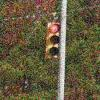traffic lights: (44, 22, 60, 59)
